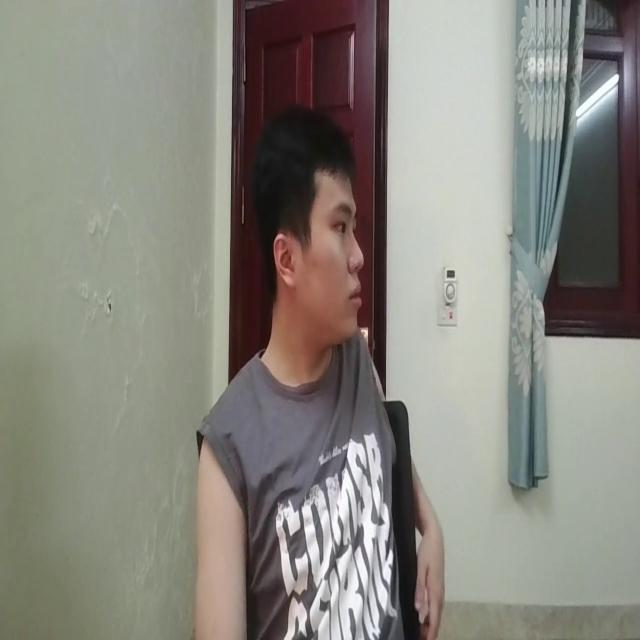student: (182, 110, 422, 640)
